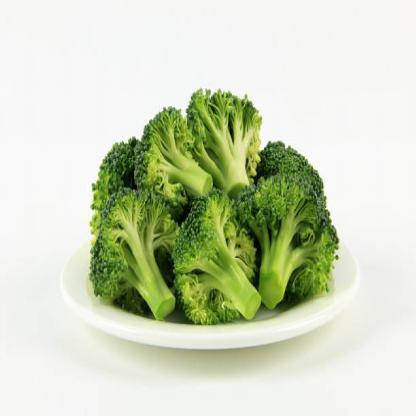broccoli: (82, 84, 340, 328)
